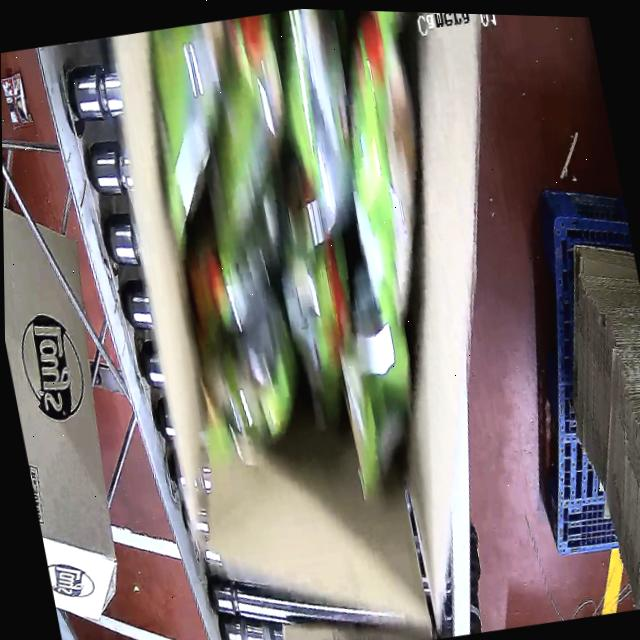YOGURT_HERB: (123, 4, 492, 503)
